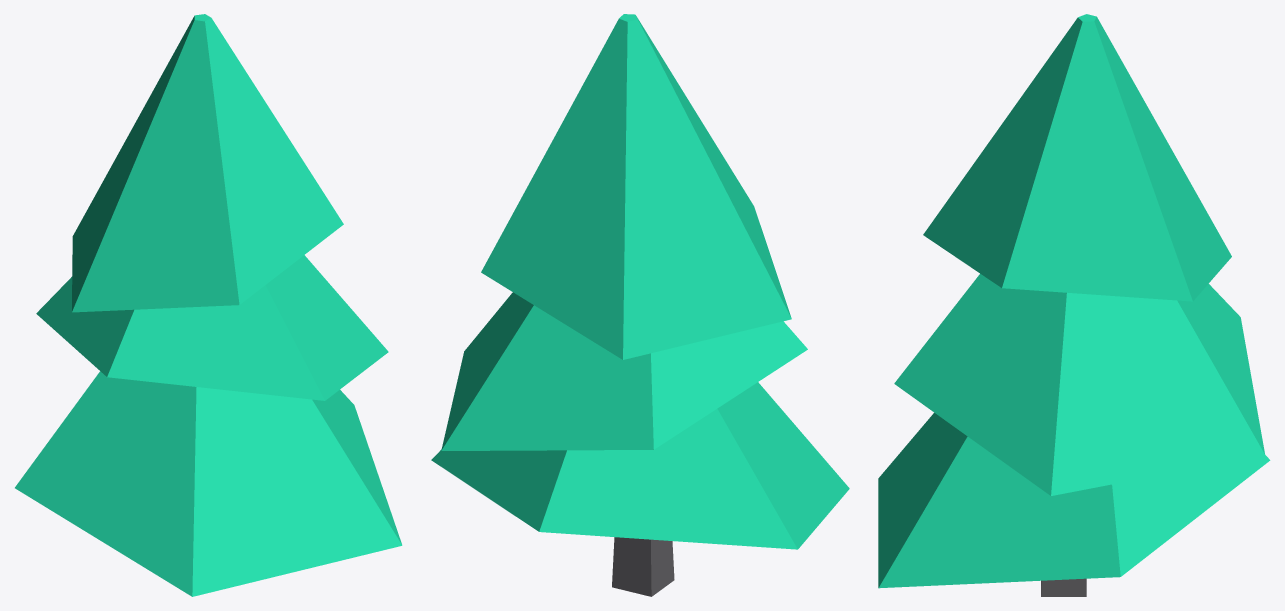
The model's file is tree_2.fbx.
3 renders of one model, left to right at view 1: azimuth 30°, elevation 25°; view 2: azimuth 150°, elevation 25°; view 3: azimuth 270°, elevation 25°, orthographic. The views are drawn at different scales.
Visible parts, largest first — view 1: tree_2; view 2: tree_2; view 3: tree_2.
Boxes of the visible parts, x1,y1,x2,y2 form: tree_2: (15, 14, 402, 596); tree_2: (431, 14, 849, 596); tree_2: (878, 14, 1270, 596).
Size of the model in its own units: 191 by 284 by 177.
